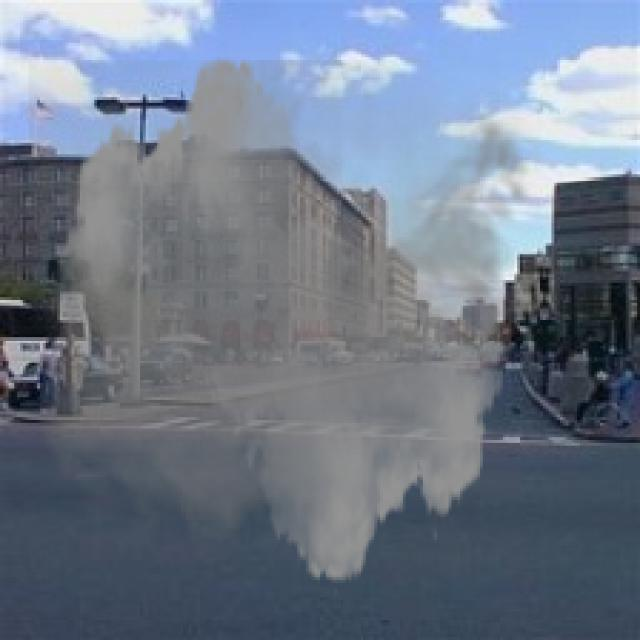Smoke: (28, 40, 546, 600)
